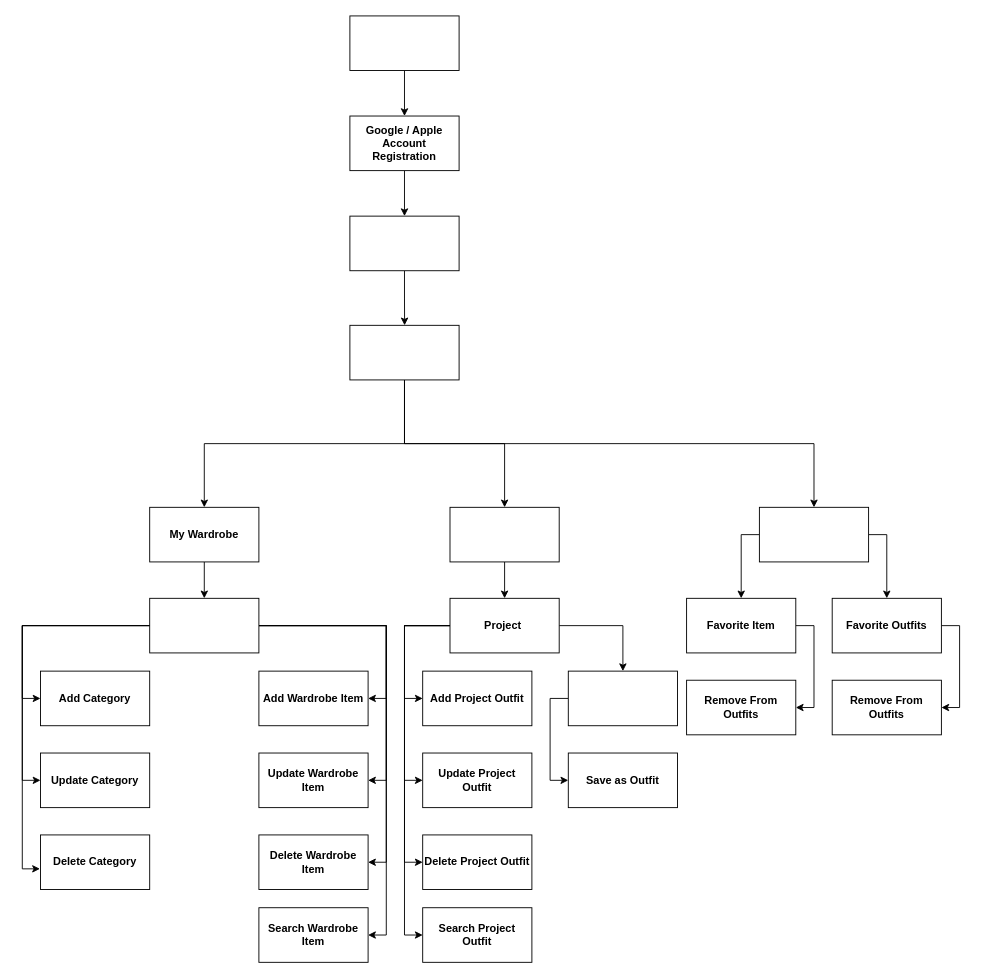
Some shapes in this 983 by 978 pixel diagram are drawn without their labels. The shapes that lost their labels are listed below. From the top down, each one's centre as x and y in pixels, then its label:
At point (404, 43): "OOTDLY APPLICATION".
At point (404, 243): "Google / Apple Account Login".
At point (404, 352): "Wardrobe Tab".
At point (504, 534): "Preview Outfit".
At point (813, 534): "Favorites".
At point (204, 625): "Categories".
At point (622, 698): "Combine Wardrobe Item".
